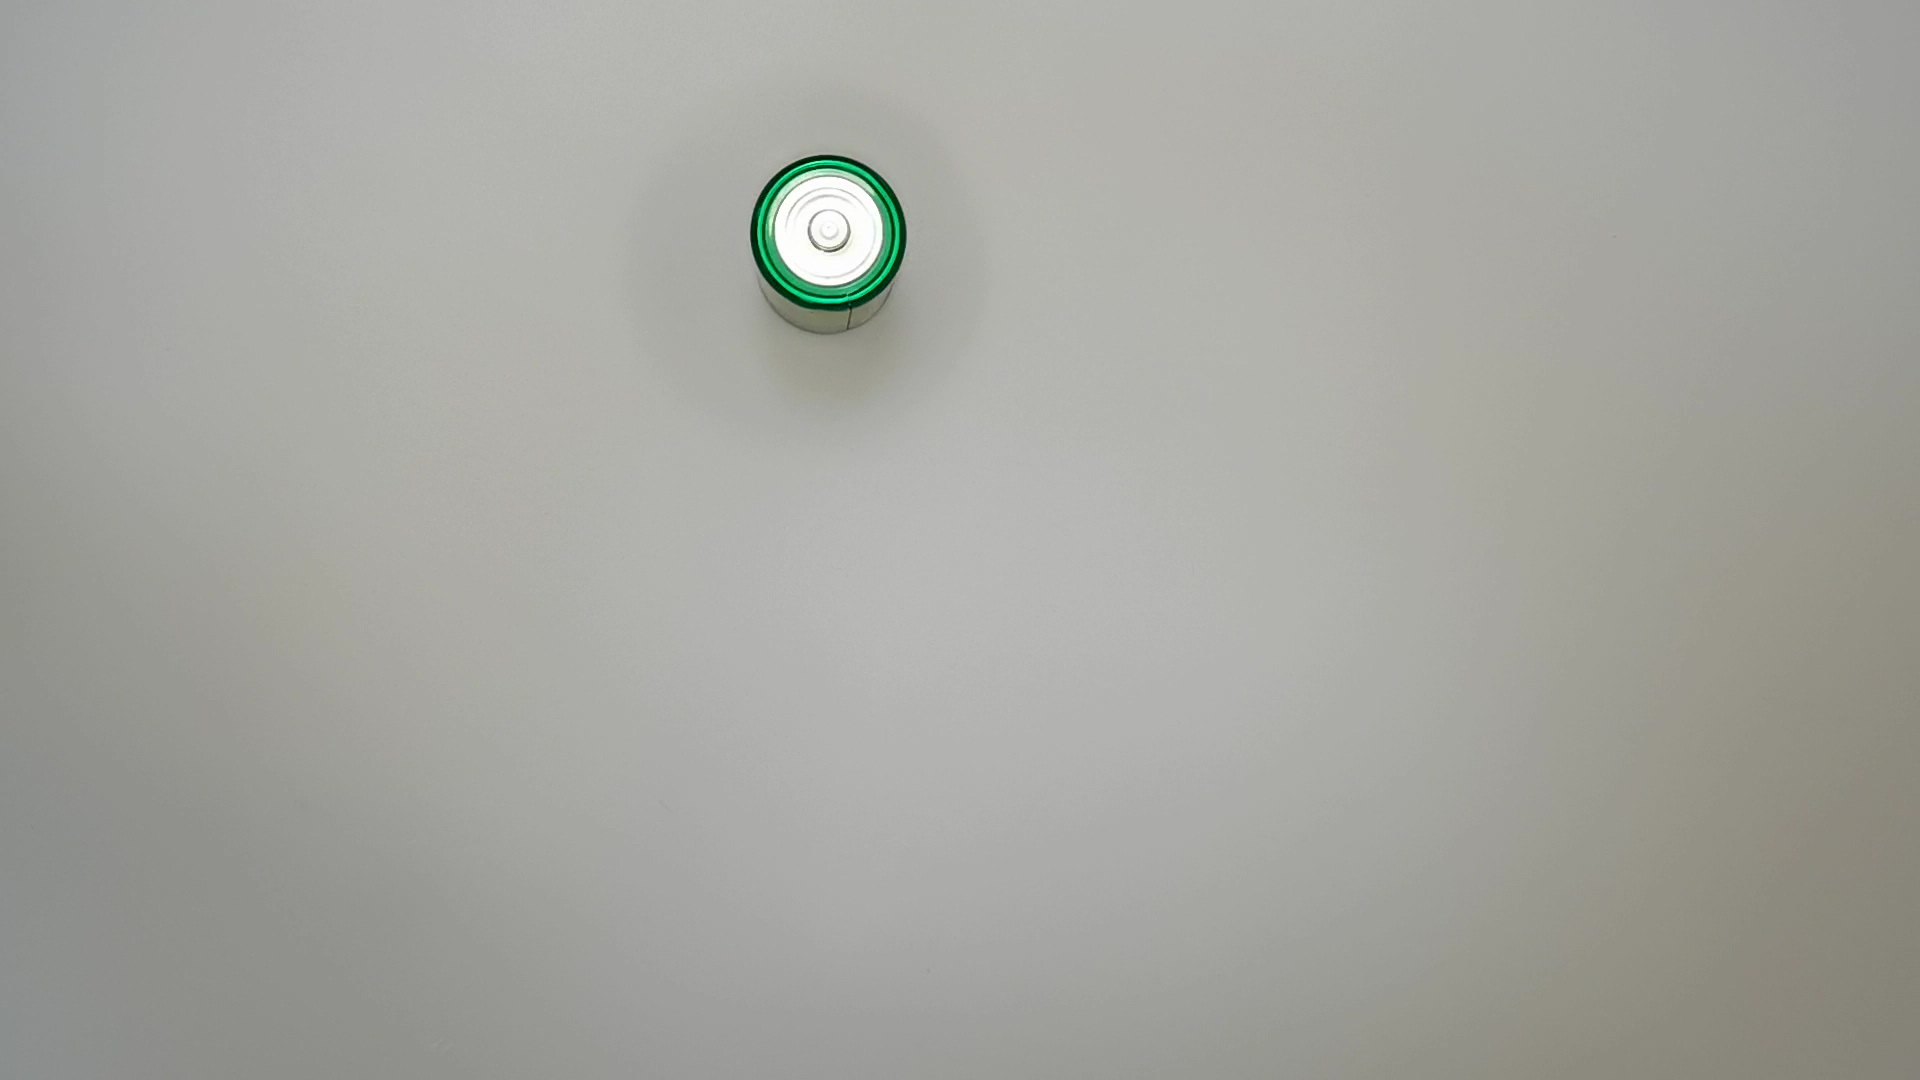battery: (746, 154, 911, 342)
